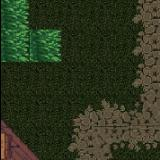Slow: (0, 0, 28, 62), (29, 29, 60, 62)
